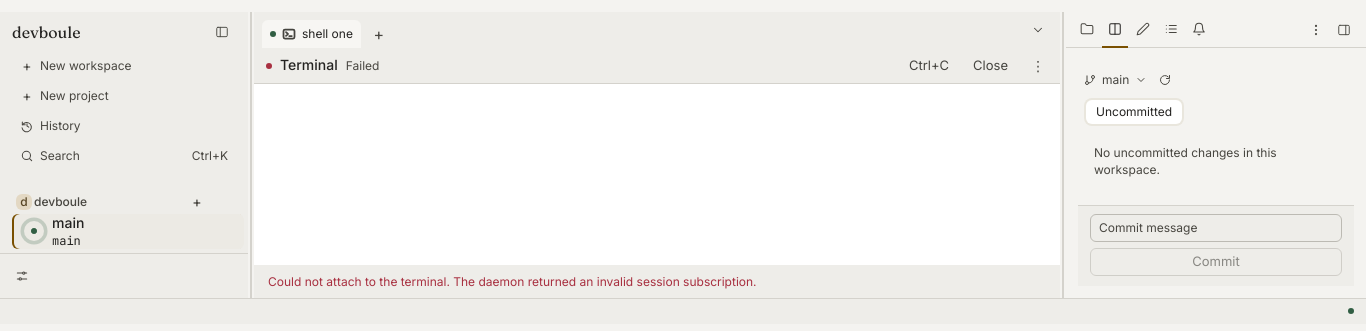
Workspace sessions › hides the side panel and its handle while the History page is up, and restores it
This screenshot has width=1366, height=331.
Click the tab named "Files" at (1087,30), box [1074,12,1100,48]
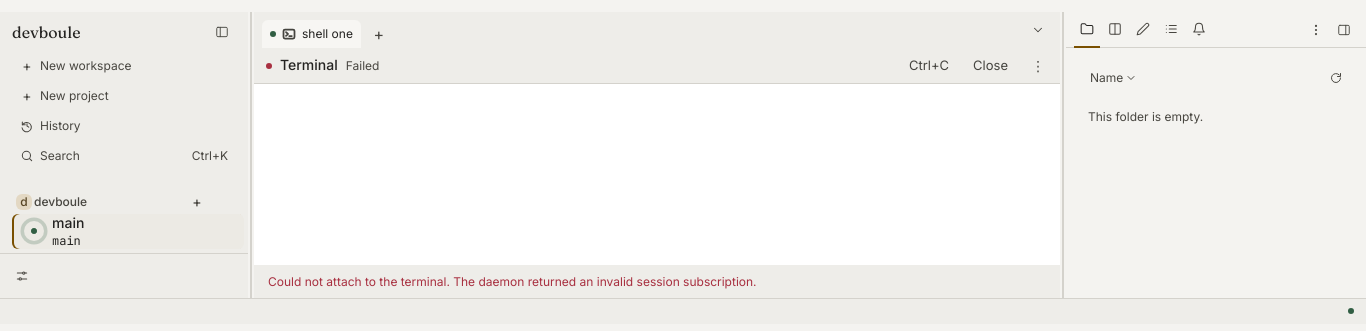
Click the button with aria-label "History" at (124,126), box [12,112,236,140]
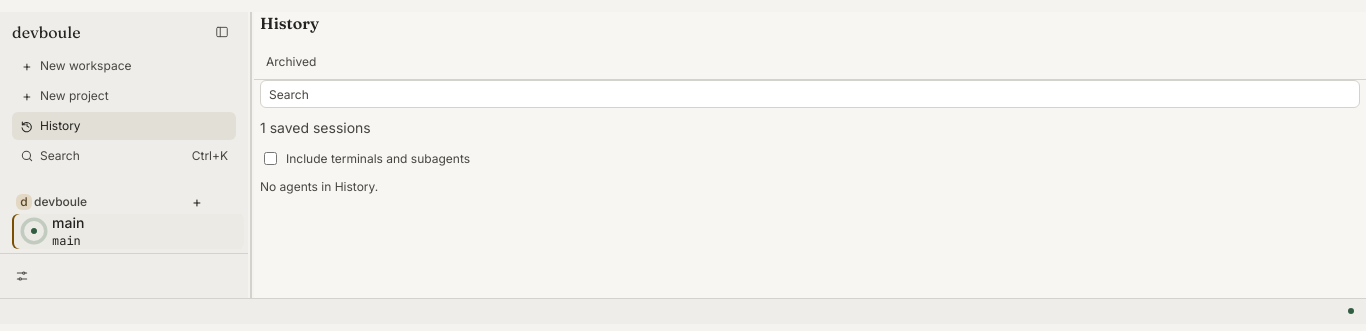
Result: the element with id "workspace-history-panel" is shown at [254,12,1365,205]
Click the button with aria-label "History" at (124,126), box [12,112,236,140]
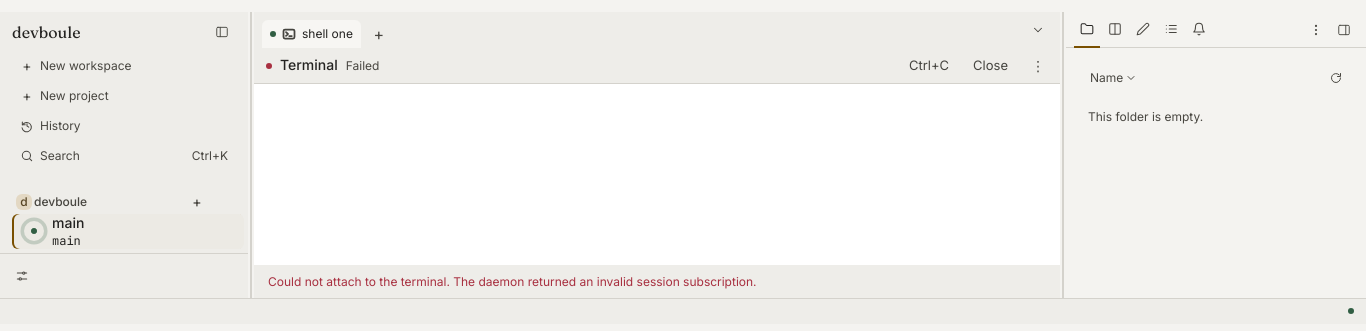
Result: the checkbox with id "workspace-history-panel" is gone
